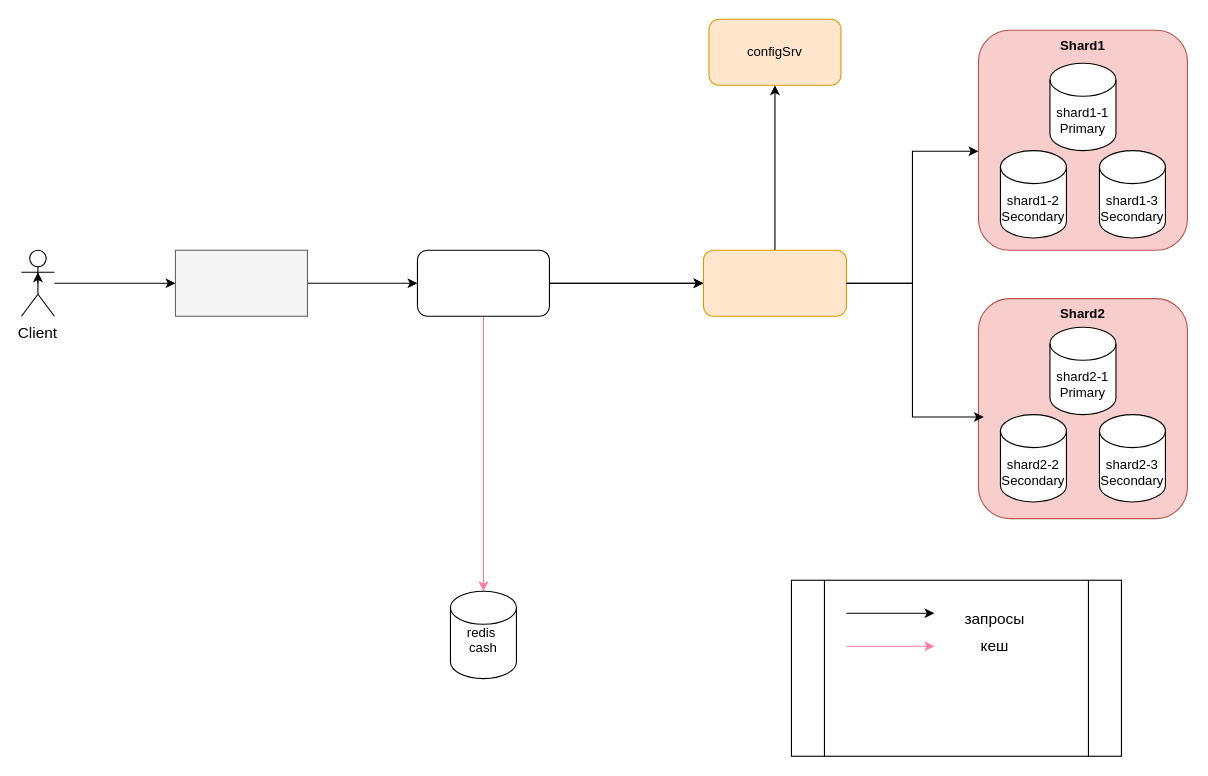
Some shapes in this 1208 by 776 pixel diagram are drawn without their labels. Here are the shapes that lost their labels. From the top down, the centre of each, then its label:
At point 240,282: "Site React/Nginx".
At point 482,282: "pymongo-api".
At point 774,282: "Mongo Router (mongos)".
